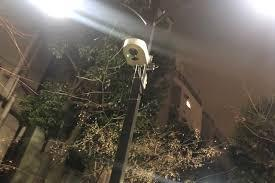maru: (121, 35, 153, 71)
